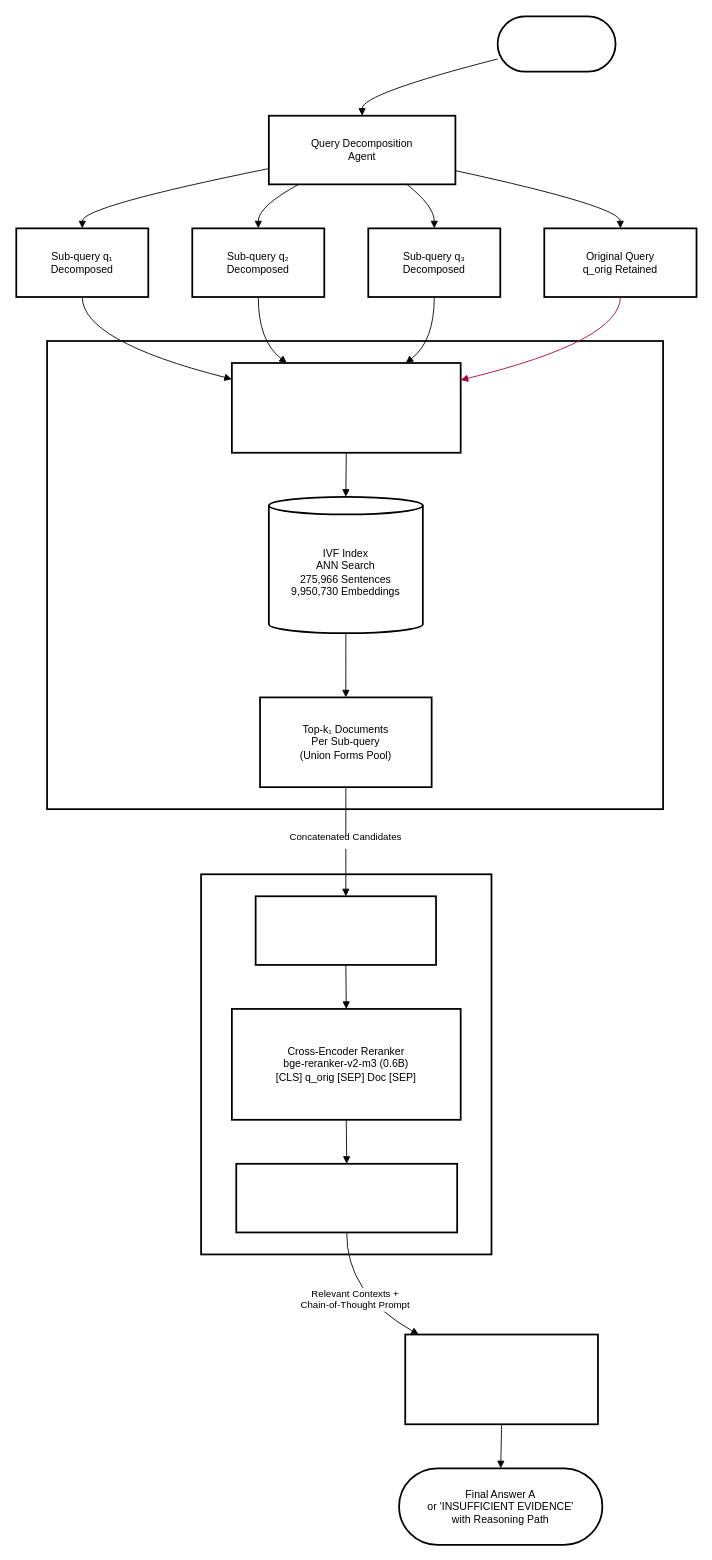
This 712x1560 diagram has some shape labels left out. Here are the shapes that lost their labels. From the top down, the centre of each, then its label:
At pixel 556 43: "Original Query q_orig".
At pixel 346 407: "Late-Interaction Retrieval Reason-ModernColBERT (0.1B)".
At pixel 345 930: "Candidate Pool Multiset: n × k₁ Docs".
At pixel 346 1197: "Top-k₂ = 5 Documents Precise Evidence Selection".
At pixel 501 1379: "Large Language Model qwen3:0.6B Generative Reasoning".
